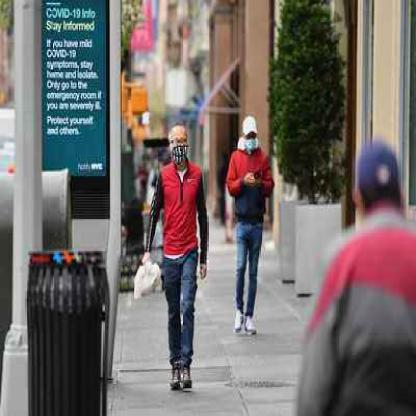Wearing_Mask: (166, 124, 194, 170), (241, 114, 265, 162)
